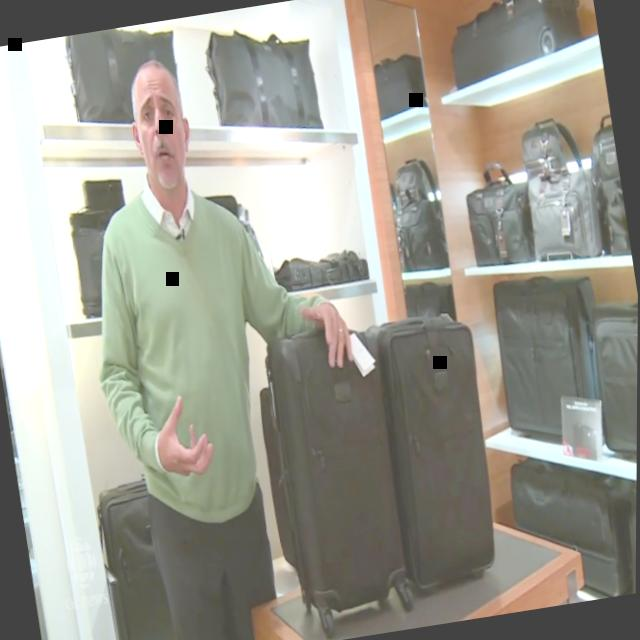luggage: (248, 317, 421, 633), (360, 306, 512, 600), (488, 262, 618, 453), (504, 441, 637, 610), (199, 10, 327, 145), (93, 472, 188, 640), (63, 20, 187, 140), (438, 0, 591, 93), (582, 298, 638, 493), (371, 48, 434, 119), (619, 476, 637, 593)
